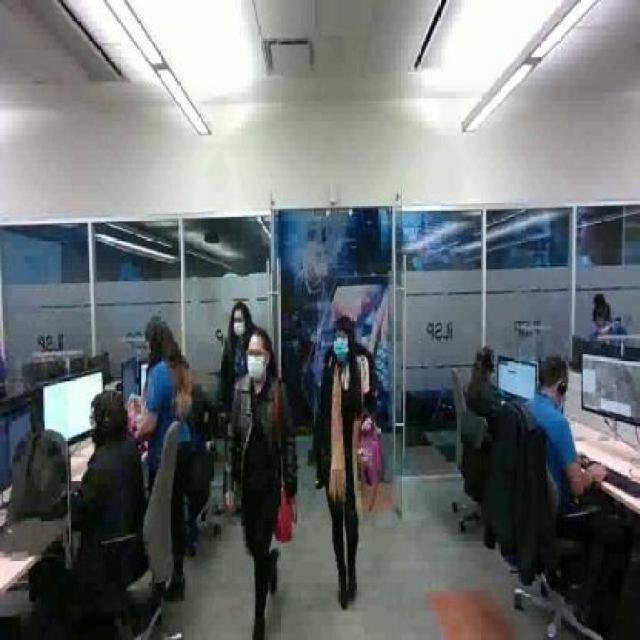sem_oculos: (329, 328, 362, 346), (86, 409, 105, 432), (227, 311, 252, 325), (143, 335, 156, 352)
